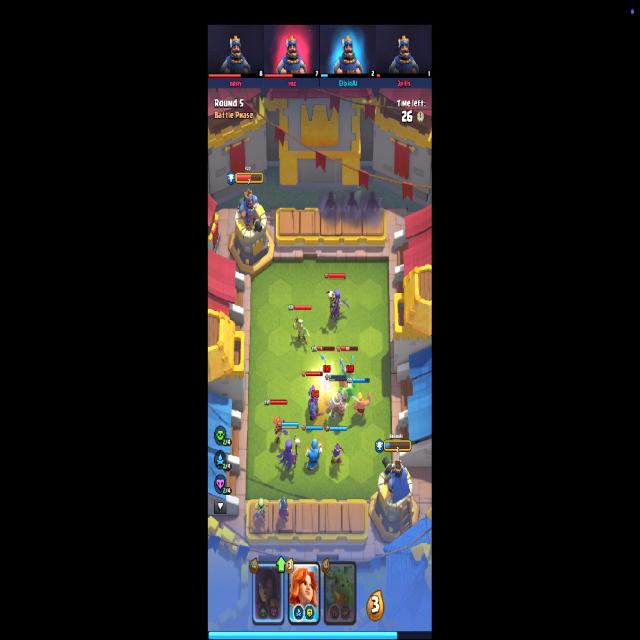archer_queen: (330, 442, 346, 473)
barbarian: (352, 391, 371, 418)
card_baby_drag: (324, 560, 356, 626)
card_valkyrie: (288, 560, 320, 626)
card_witch: (252, 559, 286, 626)
goblin_machine: (326, 390, 348, 422)
musketeer: (278, 496, 290, 524)
pekka: (308, 384, 325, 421)
prince: (340, 356, 358, 391), (317, 353, 333, 392)
spear_goblin: (292, 316, 311, 347), (255, 497, 269, 523)
valkyrie: (273, 415, 289, 444)
witch: (276, 435, 301, 471), (326, 288, 349, 323)
wizard: (306, 439, 322, 471)
